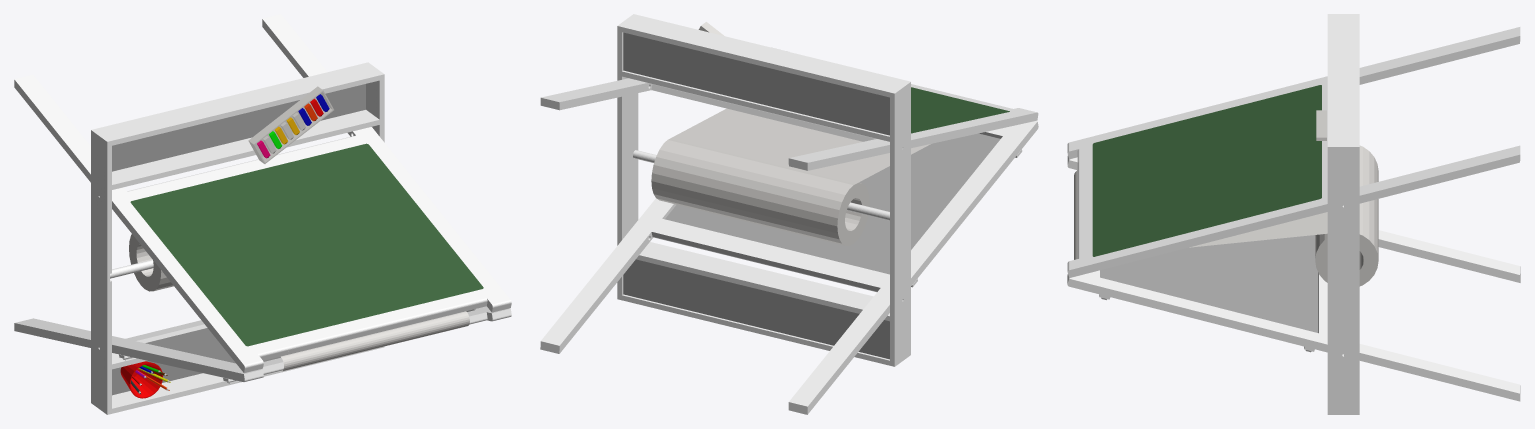
3 views of the same model, side by side, from view 1: azimuth 30°, elevation 25°; view 2: azimuth 150°, elevation 25°; view 3: azimuth 270°, elevation 25° (orthographic).
Parts seen in each view (by area): view 1: easel for children; view 2: easel for children; view 3: easel for children.
Part boxes in pixels (left/top/right/bottom): easel for children: left=14, top=14, right=511, bottom=414; easel for children: left=540, top=14, right=1038, bottom=414; easel for children: left=1067, top=14, right=1520, bottom=414.
Bounding box in the file's own units: 29.37 × 28.09 × 42.32.
